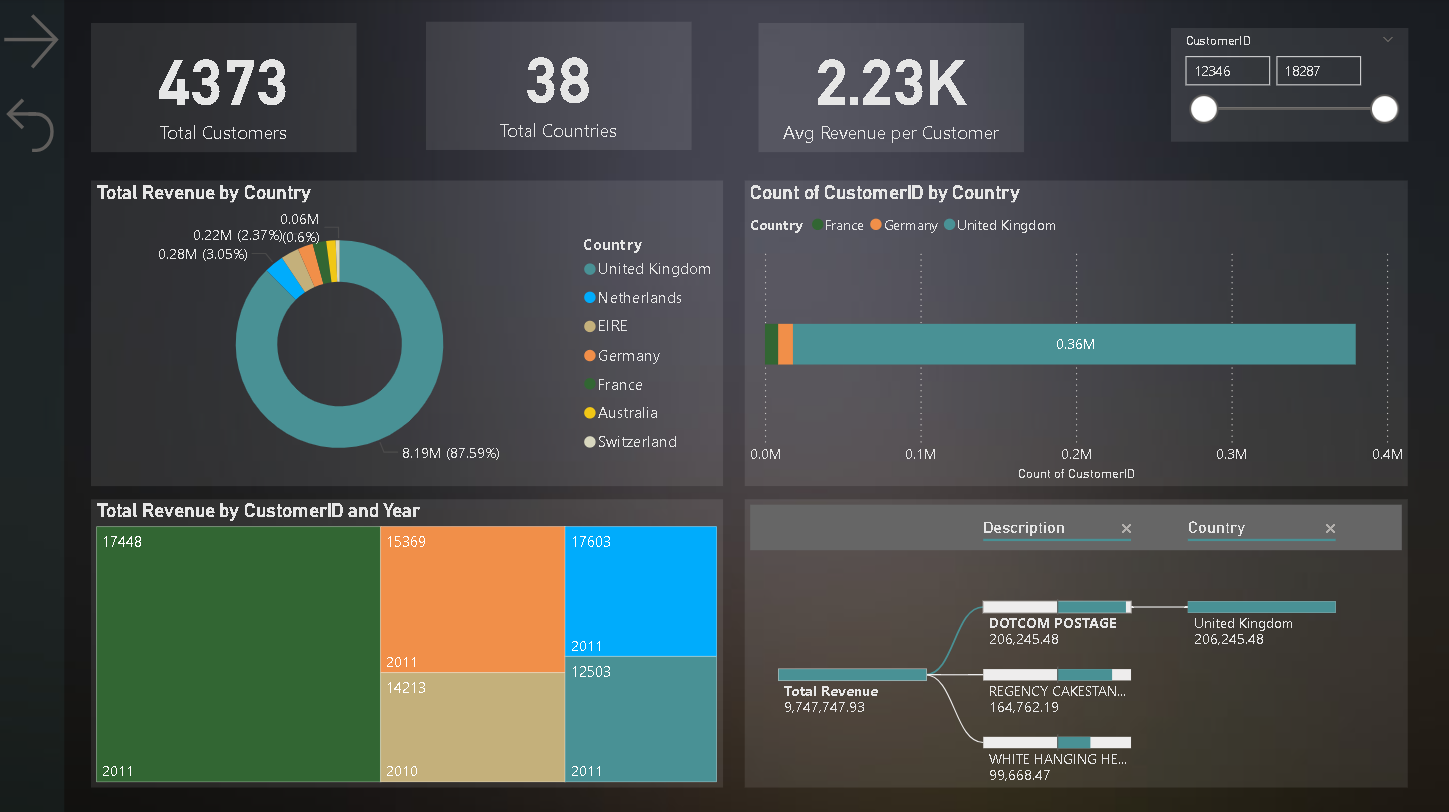

Layout of this report page (visuals, bound fields, positions):
{"tool":"powerbi","page":{"name":"Customer & Country Insights","canvas":[1280,720],"ordinal":1},"visuals":[{"type":"group","id":"g1","title":"Group 2","box":[0,0,60.4,720.4],"z":0,"group":"g2"},{"type":"shape","box":[0,0,60.4,720.4],"z":0,"group":"g1"},{"type":"decompositionTreeVisual","fields":{"Analyze":["data-2.Total Revenue"],"ExplainBy":["data-2.Description","data-2.Country"]},"box":[658.7,440.5,583.2,253.9],"z":0},{"type":"card","fields":{"Values":["data-2.Total Customers"]},"box":[83.7,22,233.3,113.9],"z":1000},{"type":"actionButton","box":[0,76.8,60.4,70],"z":1000,"group":"g1"},{"type":"actionButton","box":[0,0,60.4,76.8],"z":2000,"group":"g1"},{"type":"card","fields":{"Values":["data-2.Avg Revenue per Customer"]},"box":[671,22,233.3,113.9],"z":2000},{"type":"card","fields":{"Values":["data-2.Total Countries"]},"box":[378.7,20.6,233.3,112.5],"z":3000},{"type":"donutChart","fields":{"Category":["data-2.Country"],"Y":["data-2.Total Revenue"]},"box":[83.7,160.5,555.7,269],"z":4000},{"type":"treemap","fields":{"Group":["data-2.CustomerID"],"Values":["data-2.Total Revenue"],"Details":["data-2.InvoiceDate.Variation.Date Hierarchy.Year"]},"box":[83.7,440.5,555.7,253.9],"z":5000},{"type":"barChart","fields":{"Series":["data-2.Country"],"Y":["CountNonNull(data-2.CustomerID)"]},"box":[658.7,160.5,583.2,269],"z":6000},{"type":"slicer","fields":{"Values":["data-2.CustomerID"]},"box":[1033.3,26.1,208.6,100.2],"z":7000},{"type":"group","id":"g2","title":"Group 1","box":[0,0,60.4,720.4],"z":8000}]}

Visuals, with their boxes on the page's 1280x720 design canvas (x1, y1, x2, y2). These are canvas units, not pixel positions in the 1449x812 screenshot, which may show the page scaled, cropped or inside an application window:
"Group 2" group: (0,0,60,720)
shape: (0,0,60,720)
decompositionTreeVisual - data-2.Total Revenue x data-2.Description: (659,440,1242,694)
card - data-2.Total Customers: (84,22,317,136)
actionButton: (0,77,60,147)
actionButton: (0,0,60,77)
card - data-2.Avg Revenue per Customer: (671,22,904,136)
card - data-2.Total Countries: (379,21,612,133)
donutChart - data-2.Country x data-2.Total Revenue: (84,160,639,430)
treemap - data-2.CustomerID x data-2.Total Revenue: (84,440,639,694)
barChart - data-2.Country x CountNonNull(data-2.CustomerID): (659,160,1242,430)
slicer - data-2.CustomerID: (1033,26,1242,126)
"Group 1" group: (0,0,60,720)
